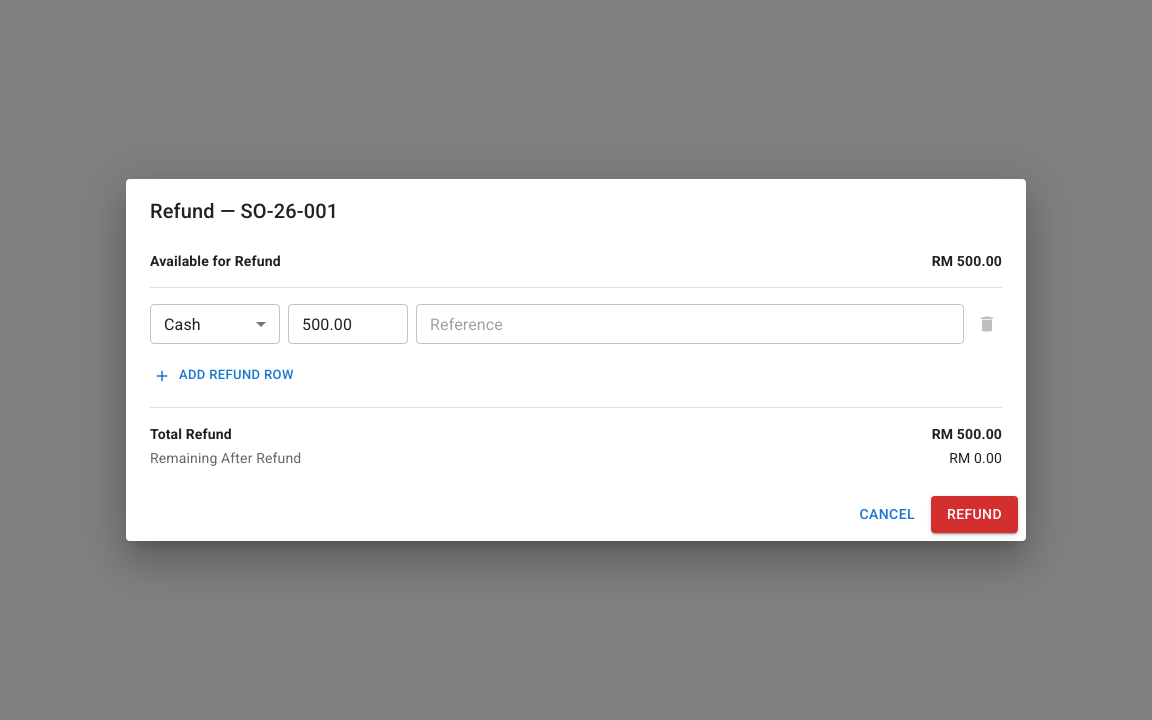
Test: RefundDialog › Cancel after editing shows discard confirmation
The width and height of the screenshot is (1152, 720).
Replace the text in the number field with placeholder "Amount" with "100" at (348, 324), box [288, 304, 408, 344]
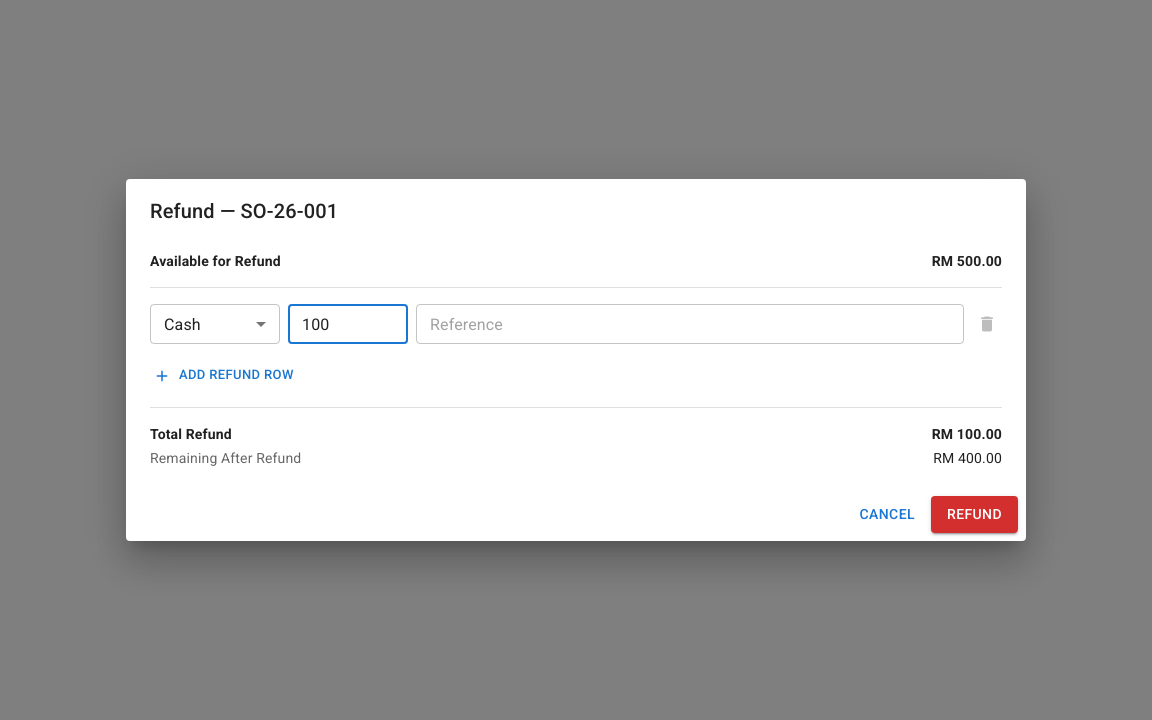
Click the button "Cancel" at (887, 514), box [852, 496, 923, 533]
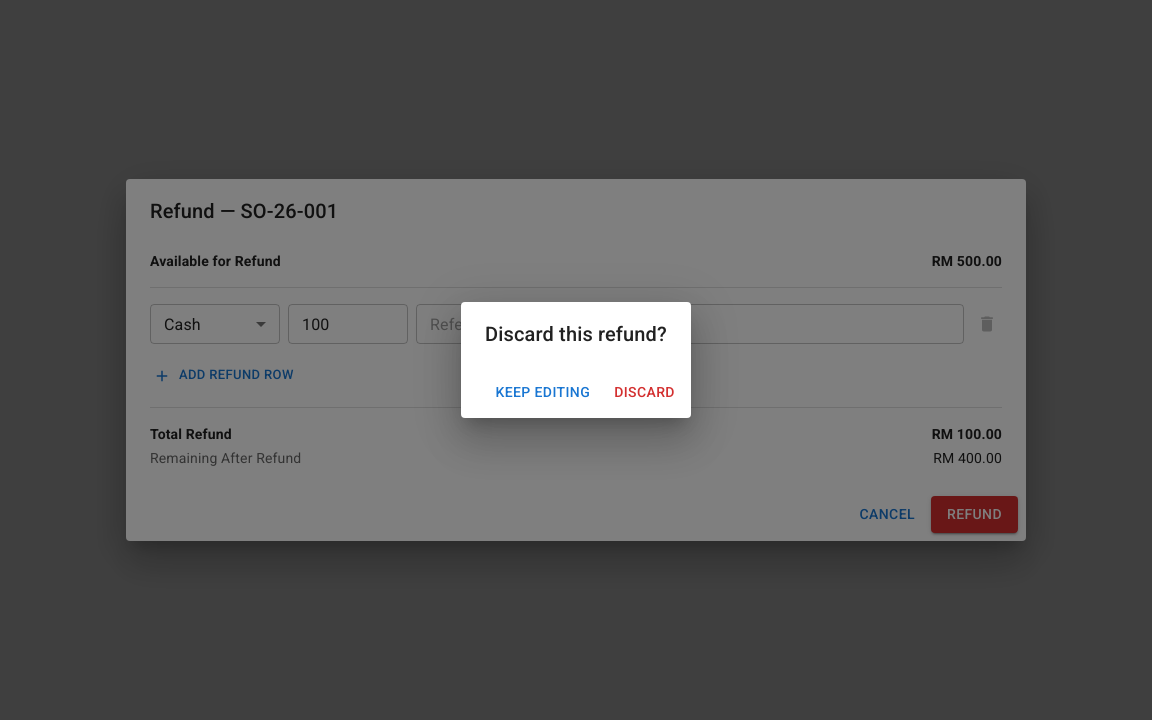
Expected: the heading "Discard this refund?" is shown, [485, 322, 667, 346]
